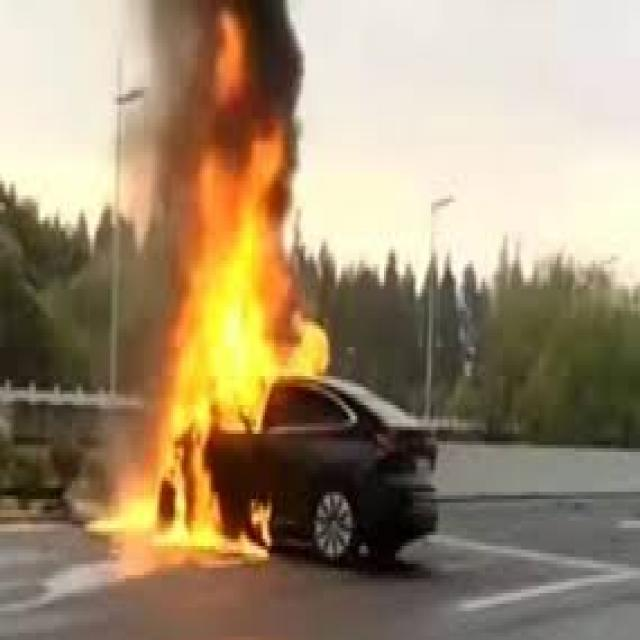fire: (85, 4, 328, 556)
